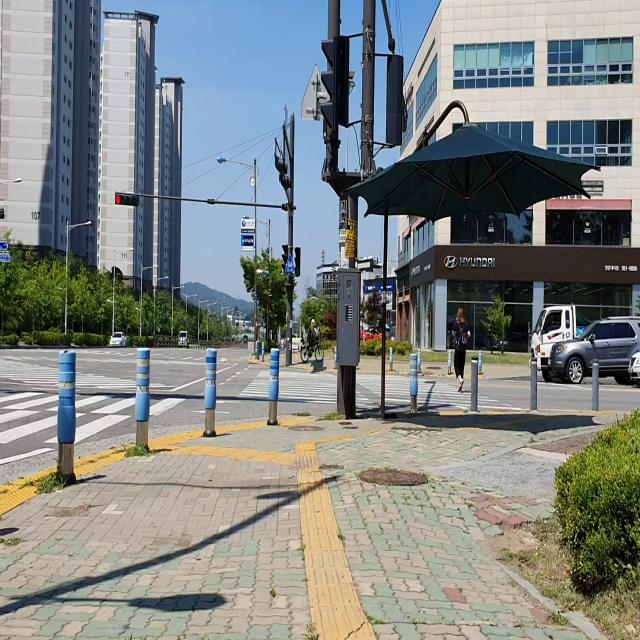횡단보도: (0, 354, 187, 448), (238, 370, 525, 412)
